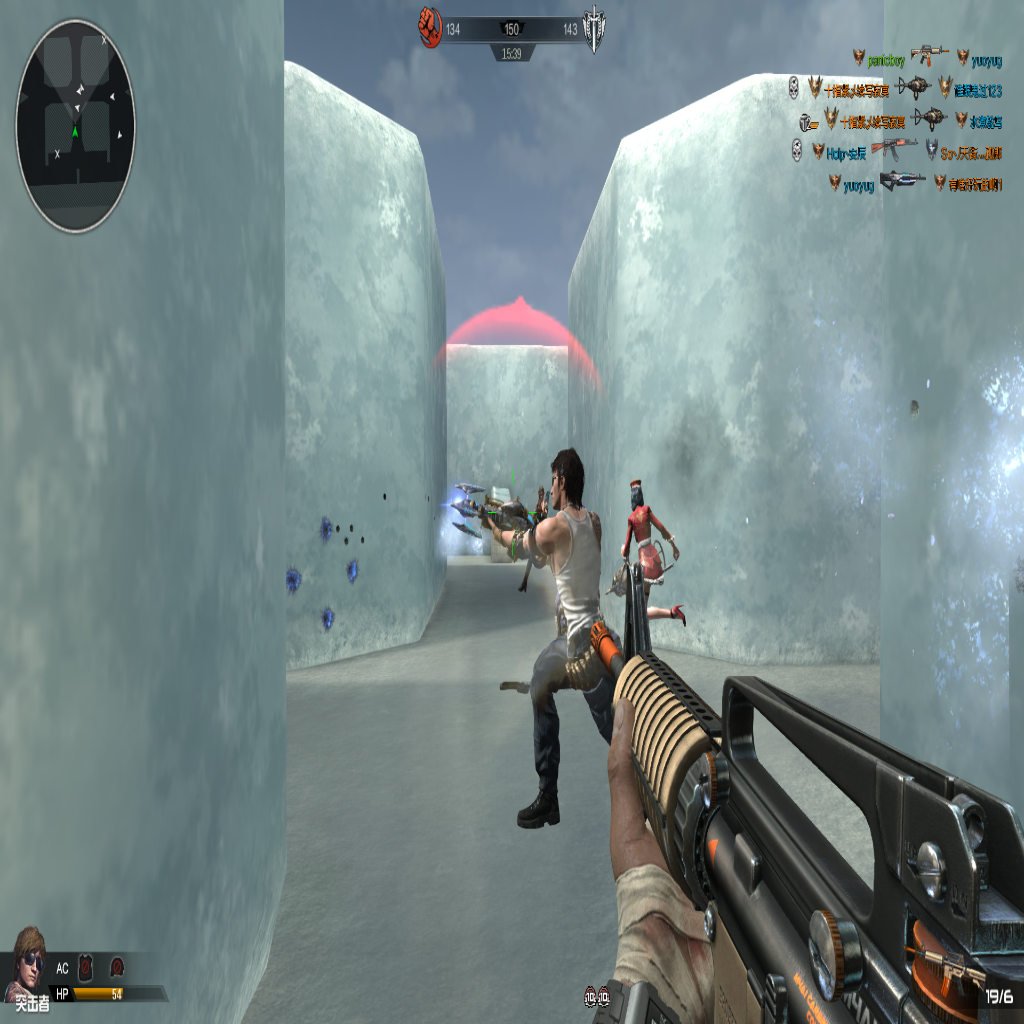tt: (477, 430, 626, 846)
